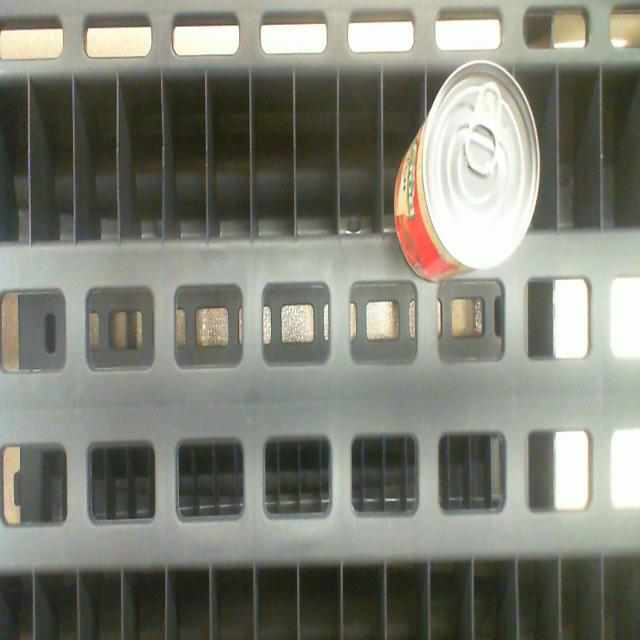can: (422, 61, 540, 270)
